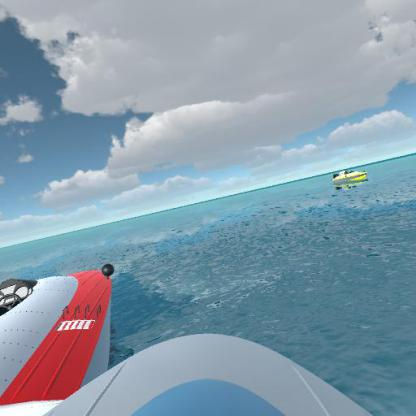usv2: (326, 162, 373, 190)
usv3: (0, 255, 150, 405)
